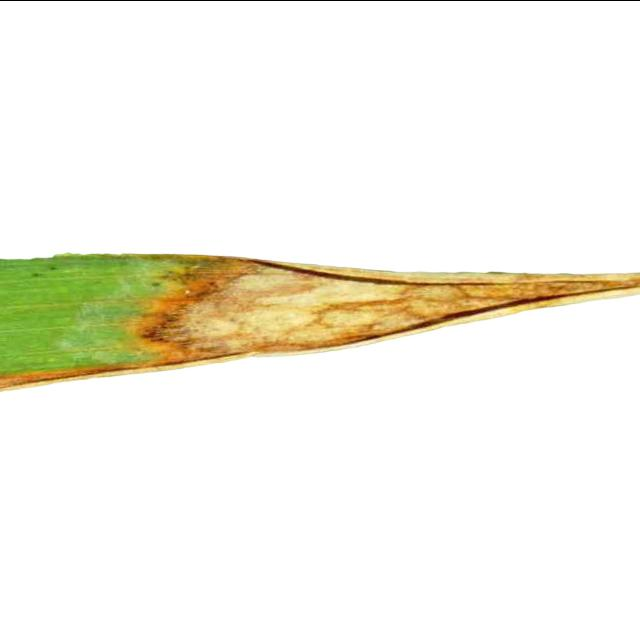Leaf scald: (0, 230, 640, 516)
